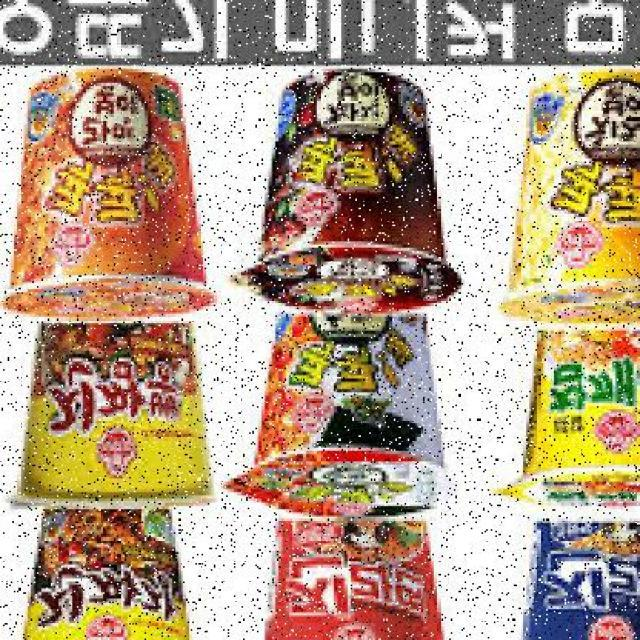Miscellaneous: (224, 73, 468, 321), (229, 272, 457, 511), (3, 72, 226, 316), (3, 306, 220, 517), (492, 71, 640, 327), (243, 489, 460, 640), (0, 495, 206, 640), (515, 288, 640, 514), (498, 495, 640, 640)
